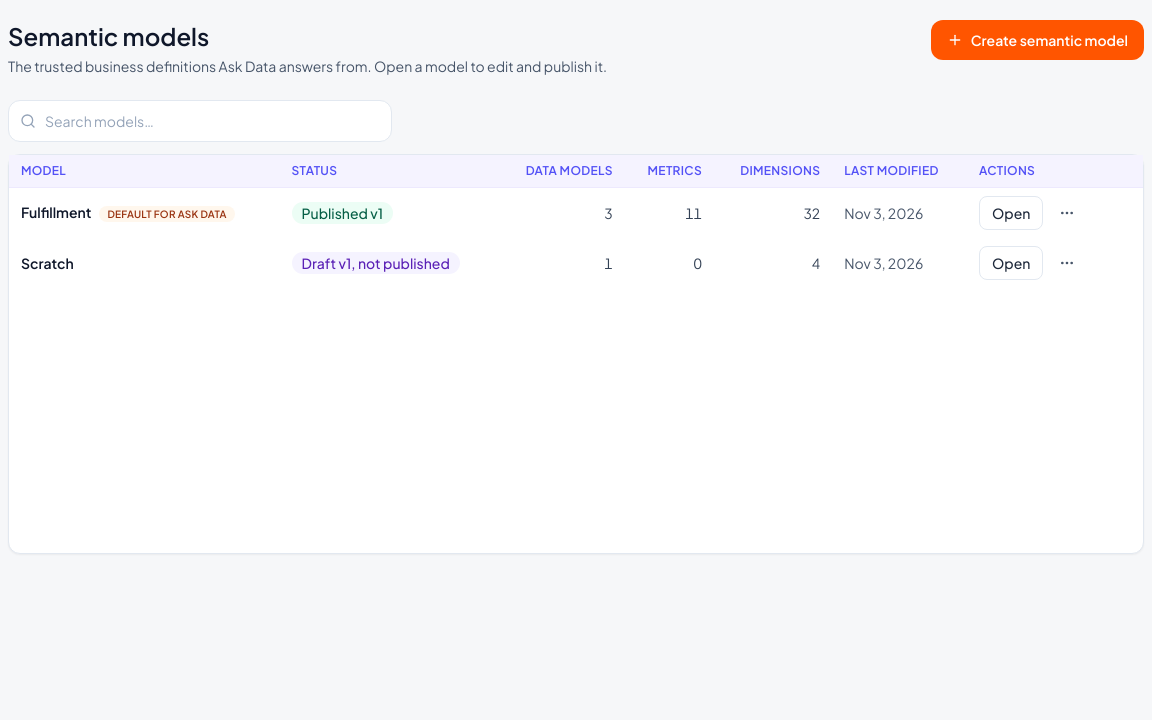
Scenario: SemanticModelsListPage › deletes an unpublished model after one confirmation
The width and height of the screenshot is (1152, 720).
Click the button named "More actions for Scratch": (1067, 263) [1051, 247, 1083, 279]
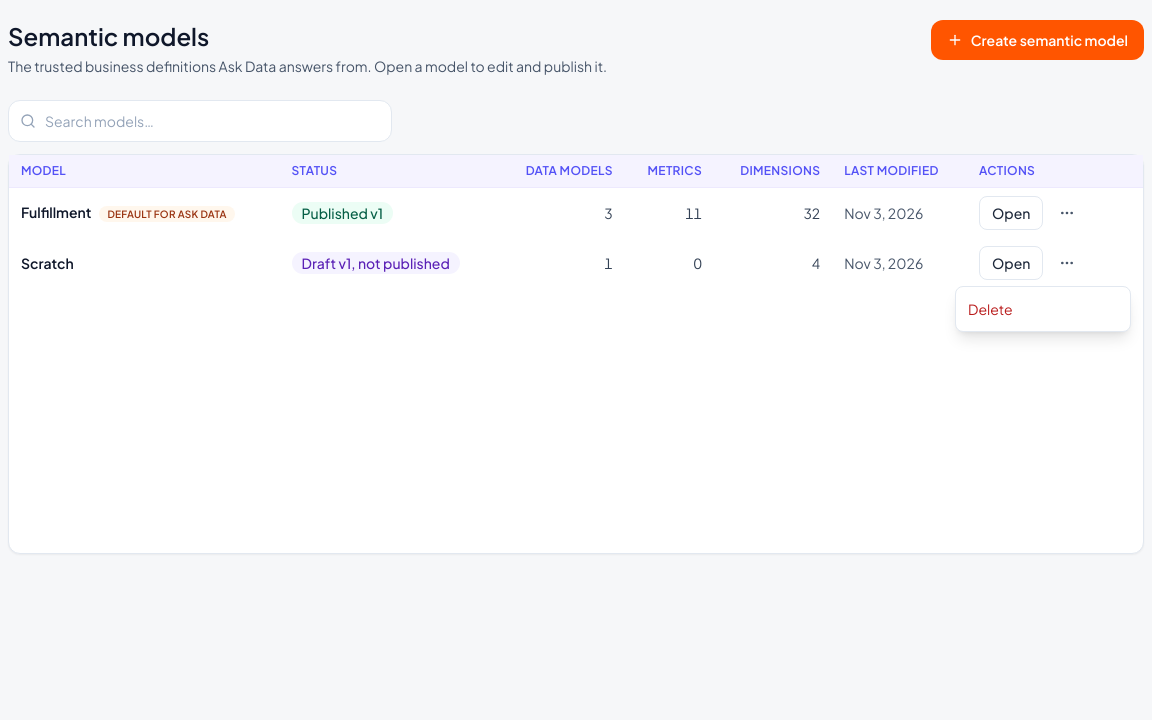
Click the menu item "Delete": (1043, 309) [956, 291, 1130, 327]
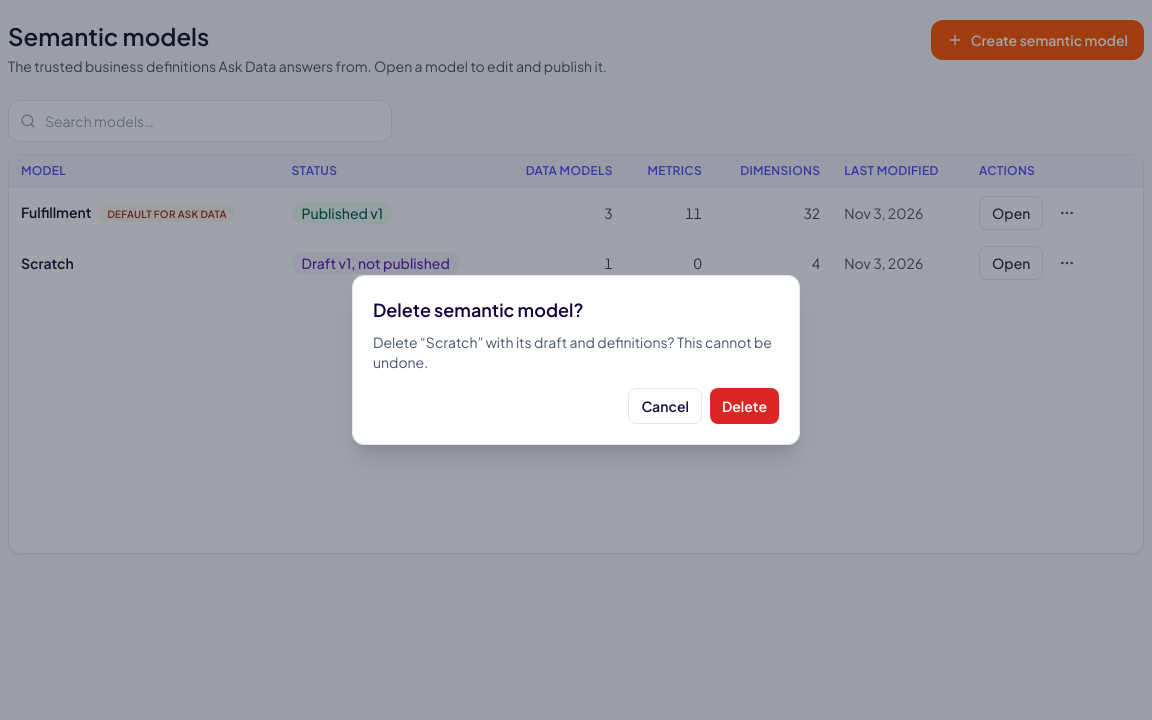
Click the button "Delete": (744, 406) [710, 388, 779, 424]
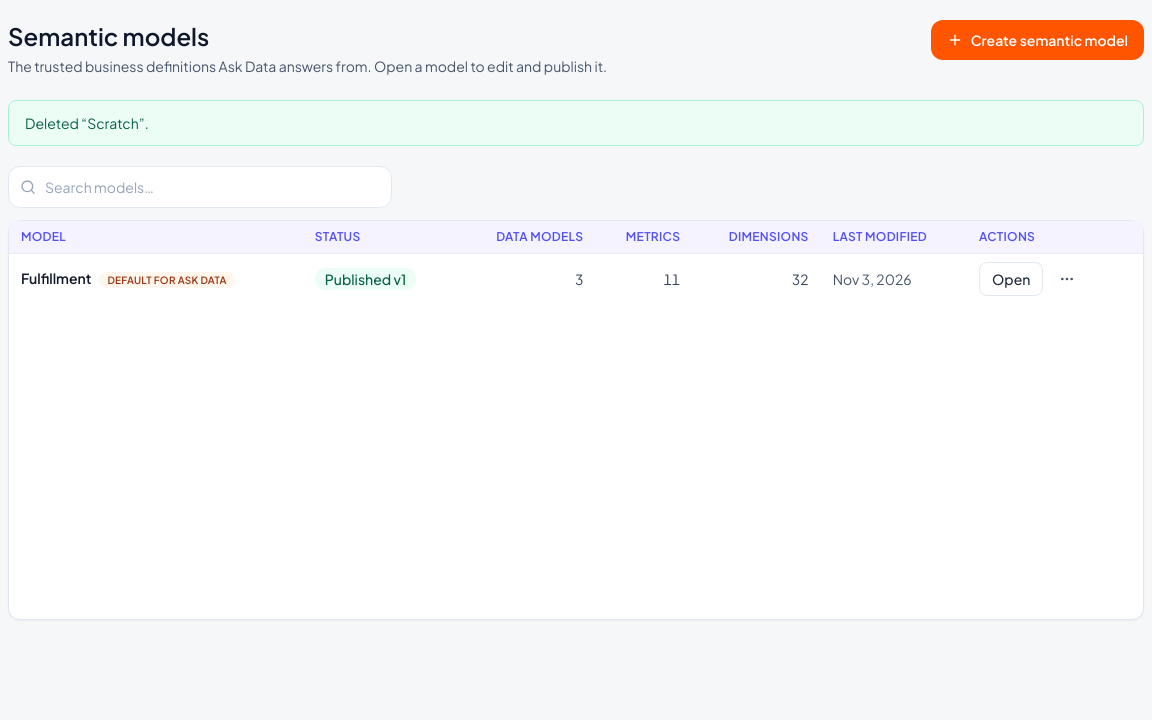
Expected: the number of rows with test id "semantic-model-row" is 1, [9, 254, 1143, 304]
Expected: the message shows "Deleted", [25, 114, 149, 132]
